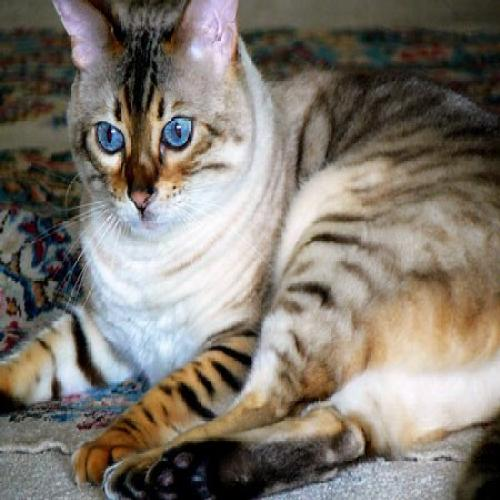bengal: (34, 1, 282, 252)
